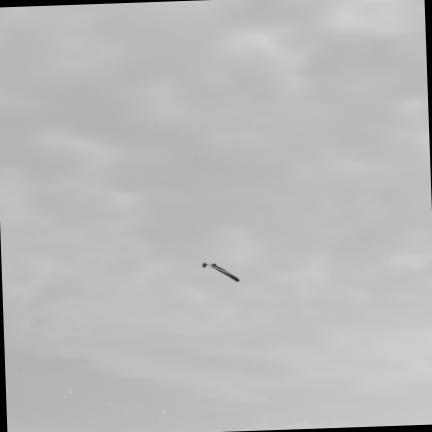Shahed: (203, 263, 239, 281)
